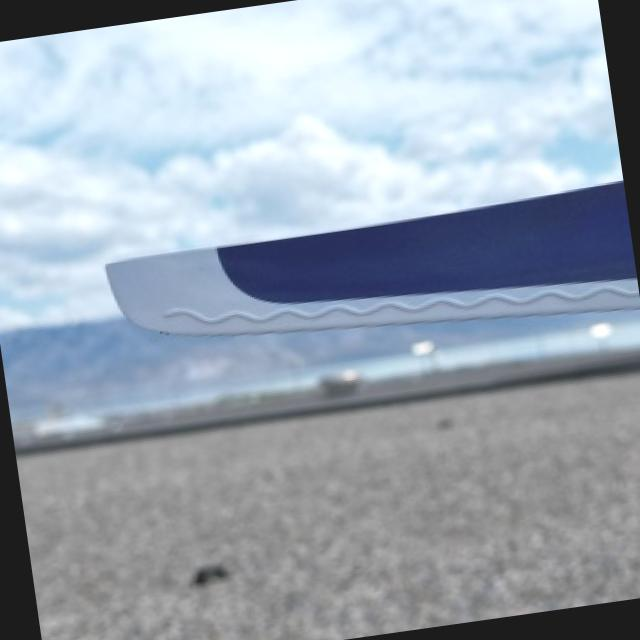healthy: (109, 179, 640, 333)
